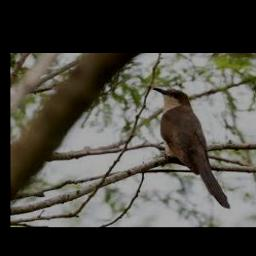Cuckoo: (153, 88, 230, 208)
